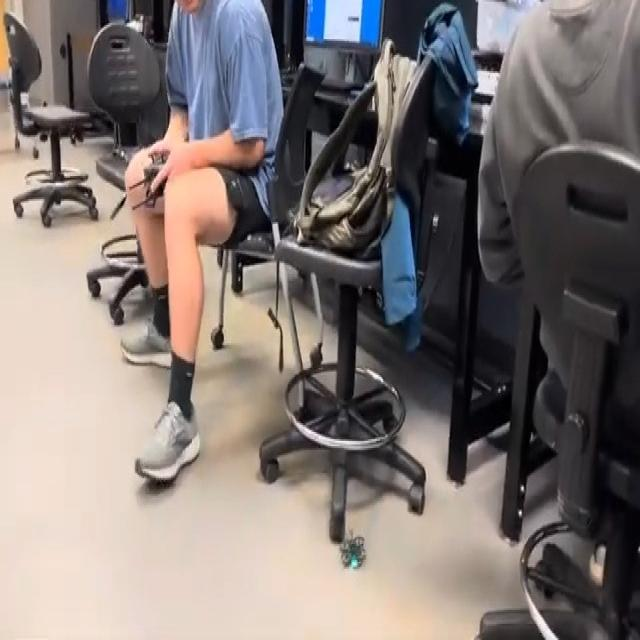drone: (329, 524, 373, 578)
